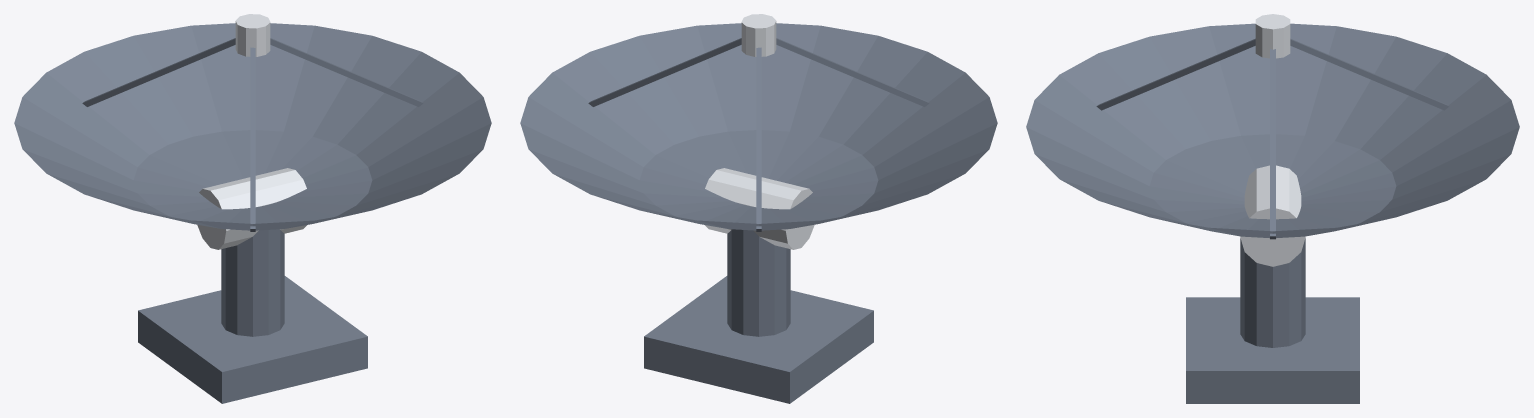
File: Antenna_HighGain.glb
The picture shows the model from 3 angles, left to right: view 1: azimuth 30°, elevation 25°; view 2: azimuth 150°, elevation 25°; view 3: azimuth 270°, elevation 25°; orthographic projection. The views are drawn at different scales.
Visible parts, largest first — view 1: Antenna_HighGain; view 2: Antenna_HighGain; view 3: Antenna_HighGain.
Boxes of the visible parts, x1,y1,x2,y2 form: Antenna_HighGain: (14,14,491,403); Antenna_HighGain: (520,14,997,403); Antenna_HighGain: (1026,14,1519,403).
Bounding box in the file's own units: 0.68 × 0.525 × 0.68.
